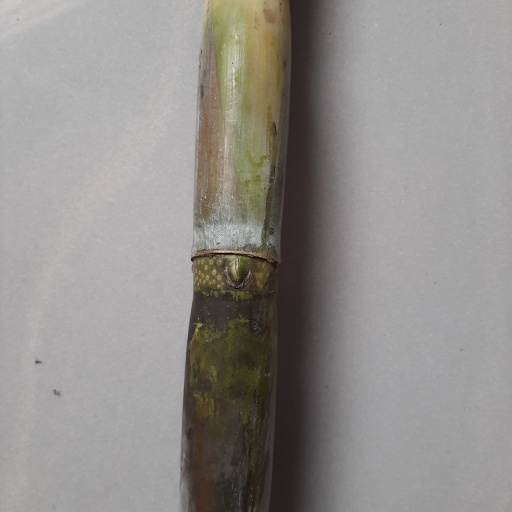Bud: (225, 256, 253, 287)
